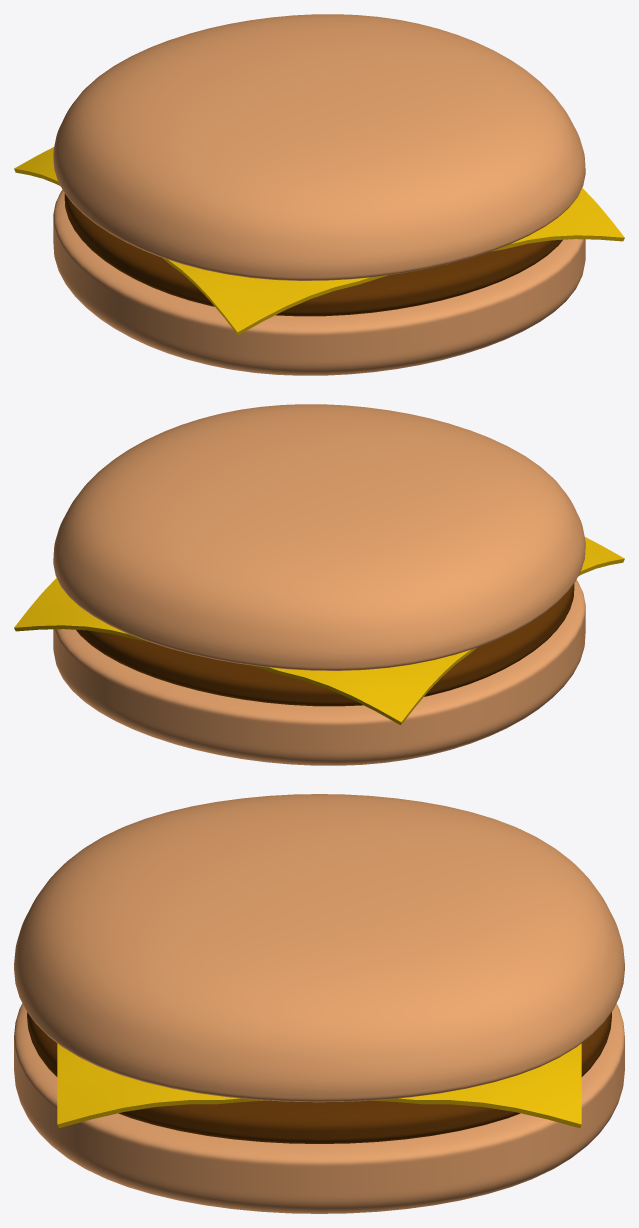
Rendered from hamburguer.glb.
3 views of the same model, one above another, from view 1: azimuth 30°, elevation 25°; view 2: azimuth 150°, elevation 25°; view 3: azimuth 270°, elevation 25° (orthographic). The views are drawn at different scales.
Visible parts, largest first — view 1: Cube.002, Cube, Cube.001, Plane; view 2: Cube.002, Cube, Cube.001, Plane; view 3: Cube.002, Cube, Cube.001, Plane.
Part boxes in pixels (box(x1,y1,x2,y2)): Cube.002: box(53, 14, 585, 280); Cube: box(53, 190, 585, 375); Cube.001: box(64, 193, 562, 316); Plane: box(14, 147, 624, 335); Cube.002: box(53, 404, 585, 670); Cube: box(53, 580, 585, 765); Cube.001: box(76, 583, 574, 706); Plane: box(14, 537, 624, 725); Cube.002: box(14, 794, 624, 1102); Cube: box(14, 1003, 624, 1213); Cube.001: box(27, 1012, 611, 1143); Plane: box(57, 1043, 581, 1128).
Size of the model in its own units: 9.22 by 4.06 by 9.22.
